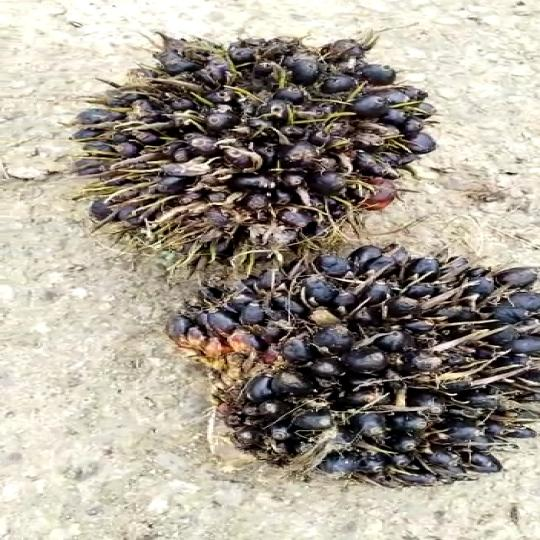mentah: (160, 243, 540, 498), (66, 24, 450, 266)
